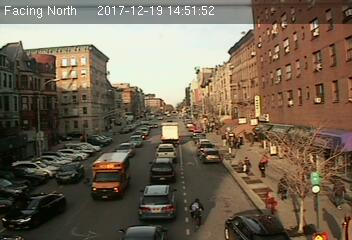bicycle: (188, 196, 203, 233)
car: (4, 192, 66, 229), (225, 213, 290, 240), (136, 185, 178, 220), (116, 225, 168, 240), (55, 159, 84, 181), (149, 158, 176, 181), (153, 142, 177, 158), (116, 141, 135, 156), (201, 149, 221, 163), (128, 134, 144, 148)
pedestrian: (277, 177, 290, 200), (260, 158, 267, 181)
truck: (89, 152, 131, 196), (160, 122, 180, 144)
